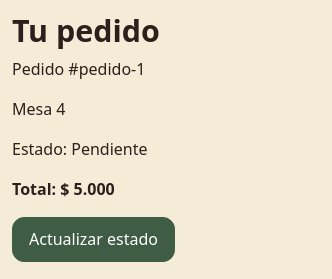
Test case: SeguimientoPedido › actualiza el estado sin recargar la página
What coordinates should you click on to do the following:
click the button "Actualizar estado"
I would click on:
 (94, 239)
Its box is x1=12 y1=216 x2=175 y2=262.
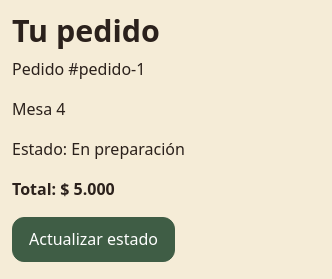
Now the text "Estado: En preparación" is shown, box x1=12 y1=138 x2=185 y2=160
